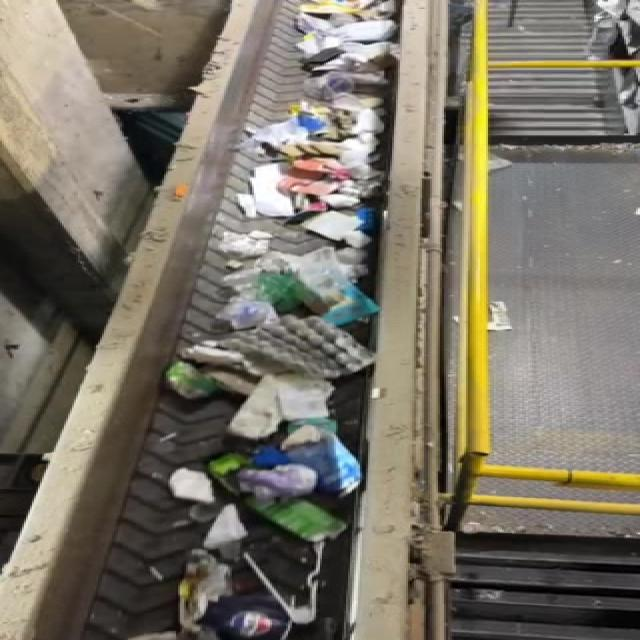metal: (188, 600, 310, 640)
paper: (223, 366, 351, 445), (198, 508, 264, 552), (167, 467, 223, 509)
pp: (275, 442, 369, 496), (168, 358, 221, 419)
